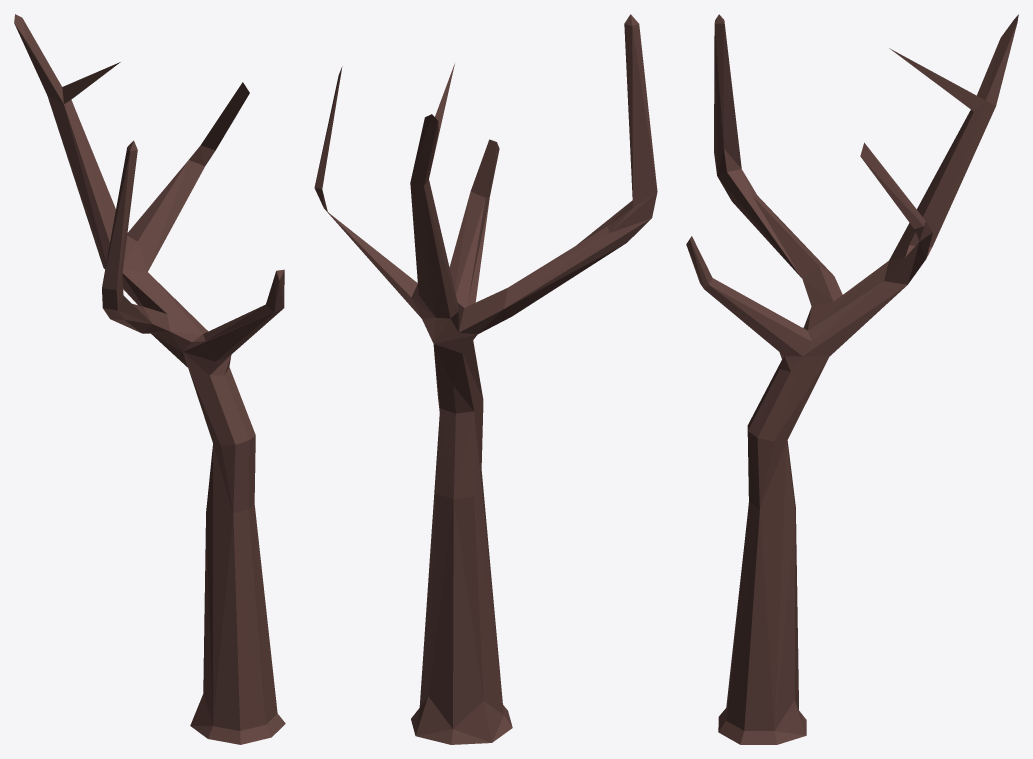
File: CommonTree_Dead_4_lod.glb
The picture shows the model from 3 angles, left to right: view 1: azimuth 30°, elevation 25°; view 2: azimuth 150°, elevation 25°; view 3: azimuth 270°, elevation 25°; orthographic projection. The views are drawn at different scales.
Visible parts, largest first — view 1: CommonTree_Dead_4; view 2: CommonTree_Dead_4; view 3: CommonTree_Dead_4.
Part boxes in pixels (x1,y1,x2,y2): CommonTree_Dead_4: (14, 14, 285, 744); CommonTree_Dead_4: (314, 14, 657, 744); CommonTree_Dead_4: (686, 14, 1018, 744).
Size of the model in its own units: 0.8153 by 2.36 by 1.07.
